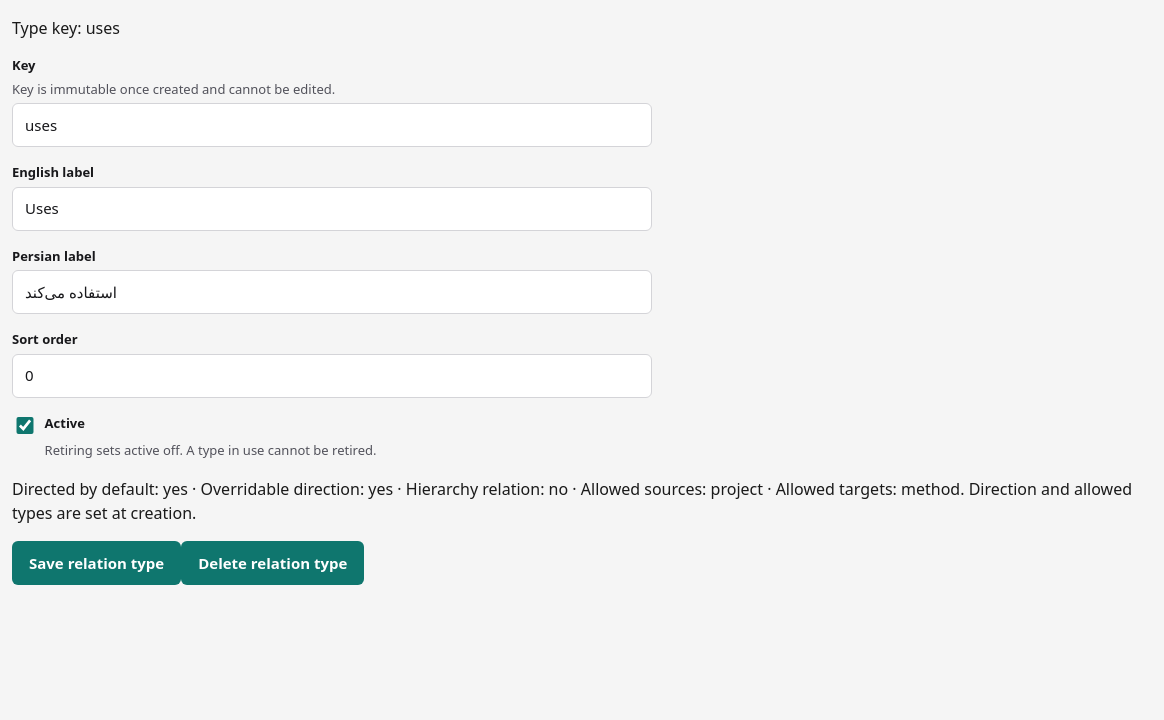
RelationTypeForm (Plan B Task 13) › blocks retire of an in-use relation type with the server conflict
This screenshot has width=1164, height=720.
Click the checkbox labelled "Active": (25, 426) top-left (16, 417), bottom-right (34, 434)
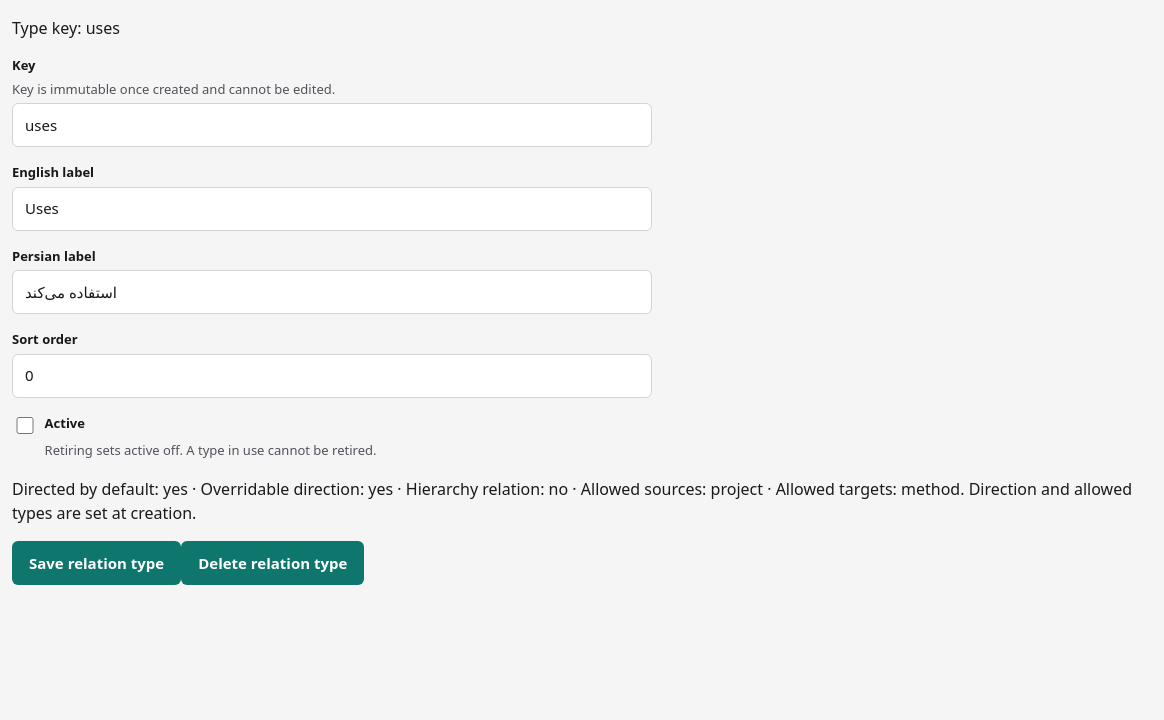
Click the button "Save relation type": (97, 563) top-left (12, 541), bottom-right (181, 585)
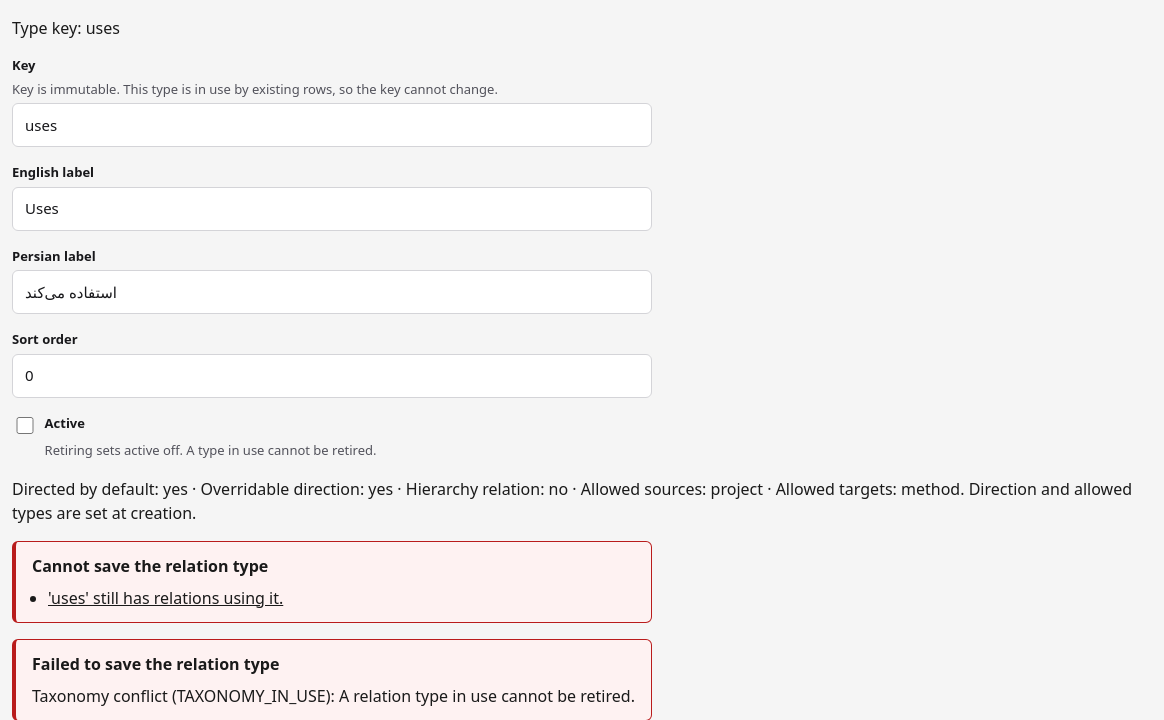
Check: the text "TAXONOMY_IN_USE" is shown, box top-left (32, 685), bottom-right (635, 707)
